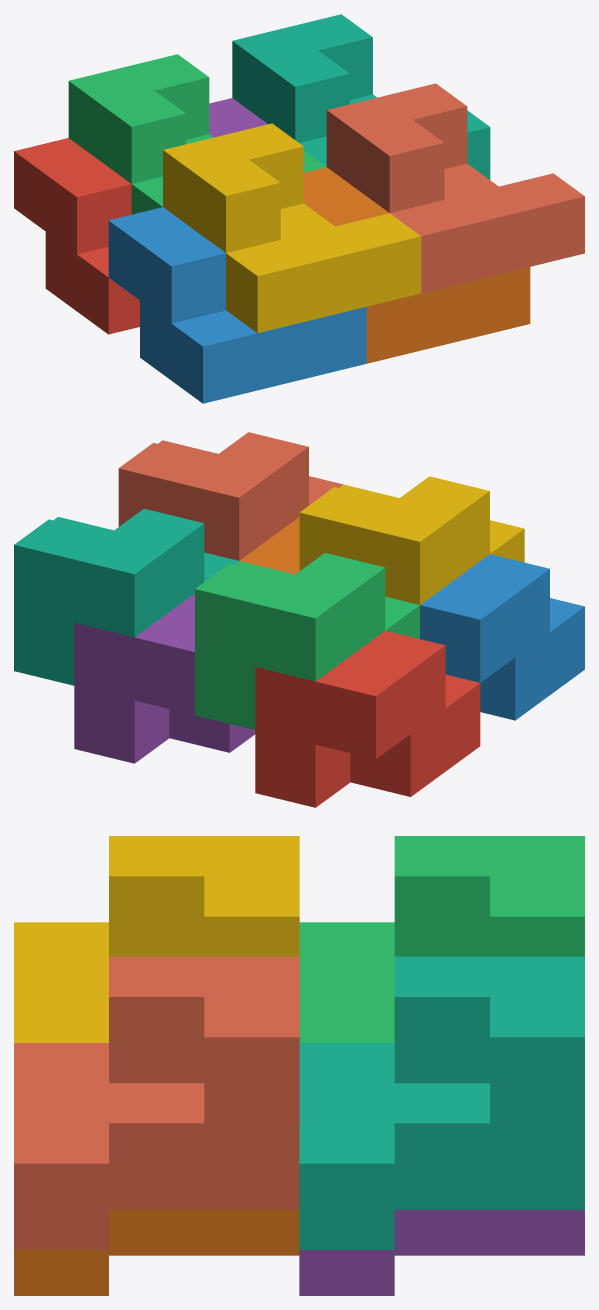
Rendered from tiling.obj.
3 renders of one model, top to bottom at view 1: azimuth 30°, elevation 25°; view 2: azimuth 150°, elevation 25°; view 3: azimuth 270°, elevation 25°, orthographic. The views are drawn at different scales.
Parts seen in each view (by area): view 1: copy_1_domain_4, copy_1_domain_8, copy_1_domain_2, copy_1_domain_1, copy_1_domain_7, copy_1_domain_3, copy_1_domain_6, copy_1_domain_5; view 2: copy_1_domain_1, copy_1_domain_3, copy_1_domain_7, copy_1_domain_2, copy_1_domain_4, copy_1_domain_5, copy_1_domain_8, copy_1_domain_6; view 3: copy_1_domain_7, copy_1_domain_8, copy_1_domain_3, copy_1_domain_4, copy_1_domain_5, copy_1_domain_6.
Part boxes in pixels (<box>): copy_1_domain_4: <box>163,123,421,333</box>; copy_1_domain_8: <box>326,83,584,293</box>; copy_1_domain_2: <box>108,207,366,403</box>; copy_1_domain_1: <box>14,138,139,334</box>; copy_1_domain_7: <box>232,14,490,179</box>; copy_1_domain_3: <box>68,54,326,214</box>; copy_1_domain_6: <box>303,167,530,363</box>; copy_1_domain_5: <box>209,98,267,137</box>; copy_1_domain_1: <box>255,630,480,807</box>; copy_1_domain_3: <box>195,553,419,729</box>; copy_1_domain_7: <box>14,508,238,685</box>; copy_1_domain_2: <box>420,554,584,720</box>; copy_1_domain_4: <box>299,476,524,604</box>; copy_1_domain_5: <box>74,593,255,763</box>; copy_1_domain_8: <box>118,432,343,560</box>; copy_1_domain_6: <box>239,517,299,574</box>; copy_1_domain_7: <box>299,956,584,1249</box>; copy_1_domain_8: <box>14,956,299,1249</box>; copy_1_domain_3: <box>299,836,584,1042</box>; copy_1_domain_4: <box>14,836,299,1042</box>; copy_1_domain_5: <box>299,1209,584,1295</box>; copy_1_domain_6: <box>14,1209,299,1295</box>.
Bounding box in the file's own units: 7 × 3 × 6.
